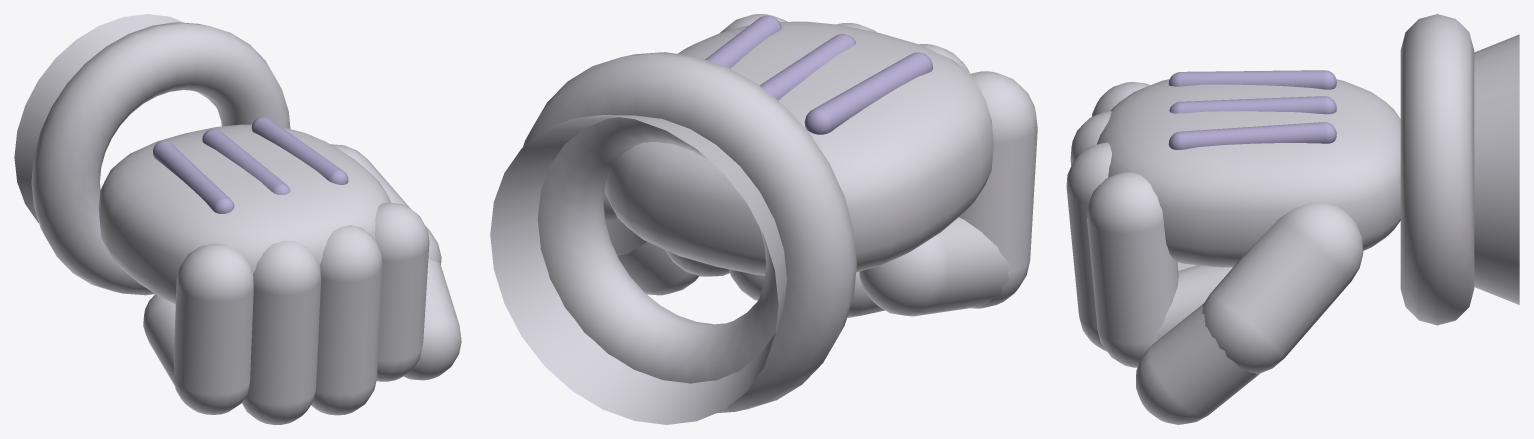
Rendered from Glove_Fist.obj.
3 views of the same model, side by side, from view 1: azimuth 30°, elevation 25°; view 2: azimuth 150°, elevation 25°; view 3: azimuth 270°, elevation 25° (orthographic). The views are drawn at different scales.
Visible parts, largest first — view 1: Hand, Cuff, Seam; view 2: Cuff, Hand, Seam; view 3: Hand, Cuff, Seam.
Boxes of the visible parts, x1=… form: Hand: x1=98, y1=124, x2=461, y2=424; Cuff: x1=14, y1=14, x2=290, y2=295; Seam: x1=153, y1=116, x2=348, y2=213; Cuff: x1=490, y1=52, x2=856, y2=424; Hand: x1=603, y1=14, x2=1037, y2=317; Seam: x1=705, y1=15, x2=932, y2=134; Hand: x1=1066, y1=79, x2=1400, y2=424; Cuff: x1=1400, y1=14, x2=1519, y2=325; Seam: x1=1168, y1=70, x2=1336, y2=149.
Size of the model in its own units: 0.1886 by 0.1714 by 0.2208.
